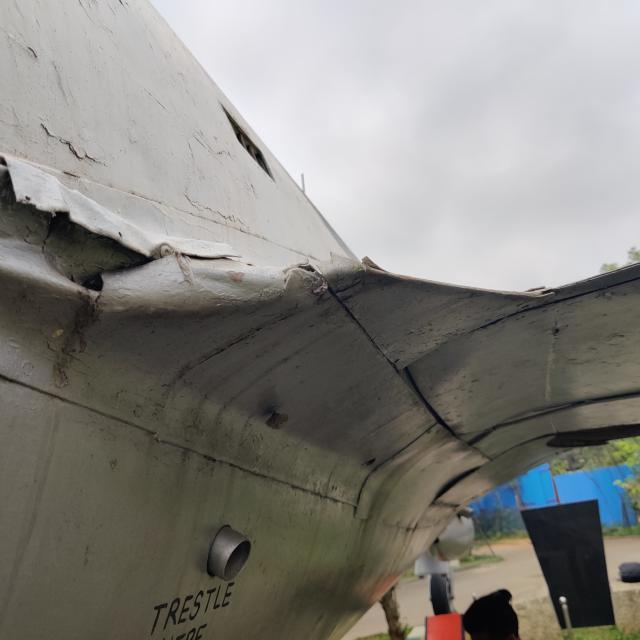Crack: (362, 256, 388, 273), (297, 260, 321, 276)
